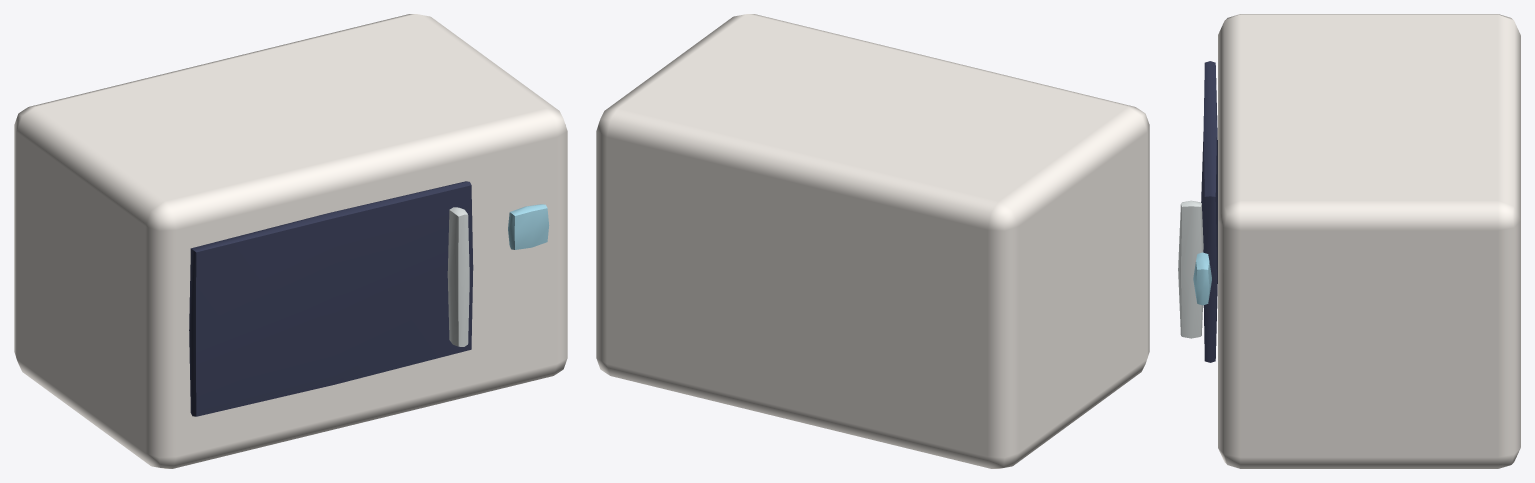
Rendered from microwave.glb.
3 views of the same model, side by side, from view 1: azimuth 30°, elevation 25°; view 2: azimuth 150°, elevation 25°; view 3: azimuth 270°, elevation 25° (orthographic).
Parts seen in each view (by area): view 1: part (×4); view 2: part; view 3: part (×4).
Boxes of the visible parts, x1,y1,x2,y2 form: part (×4): (14,14,567,468); part: (596,14,1149,468); part (×4): (1178,14,1520,468).
Size of the model in its own units: 0.64 by 0.39 by 0.4525.
Materials: 1 (1 with a texture image).
